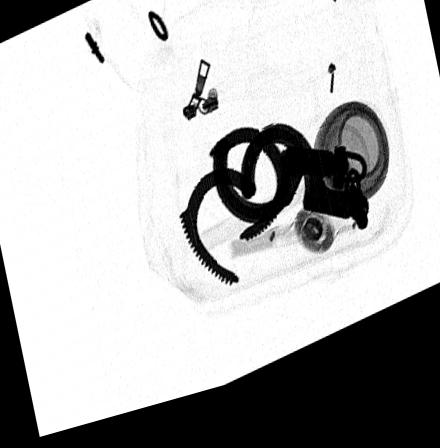HandCuffs: (174, 133, 371, 302)
